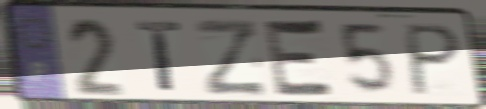2: (65, 15, 130, 98)
5: (334, 22, 398, 99)
E: (262, 15, 339, 103)
P: (404, 22, 465, 99)
T: (132, 19, 184, 96)
Z: (192, 17, 270, 98)
